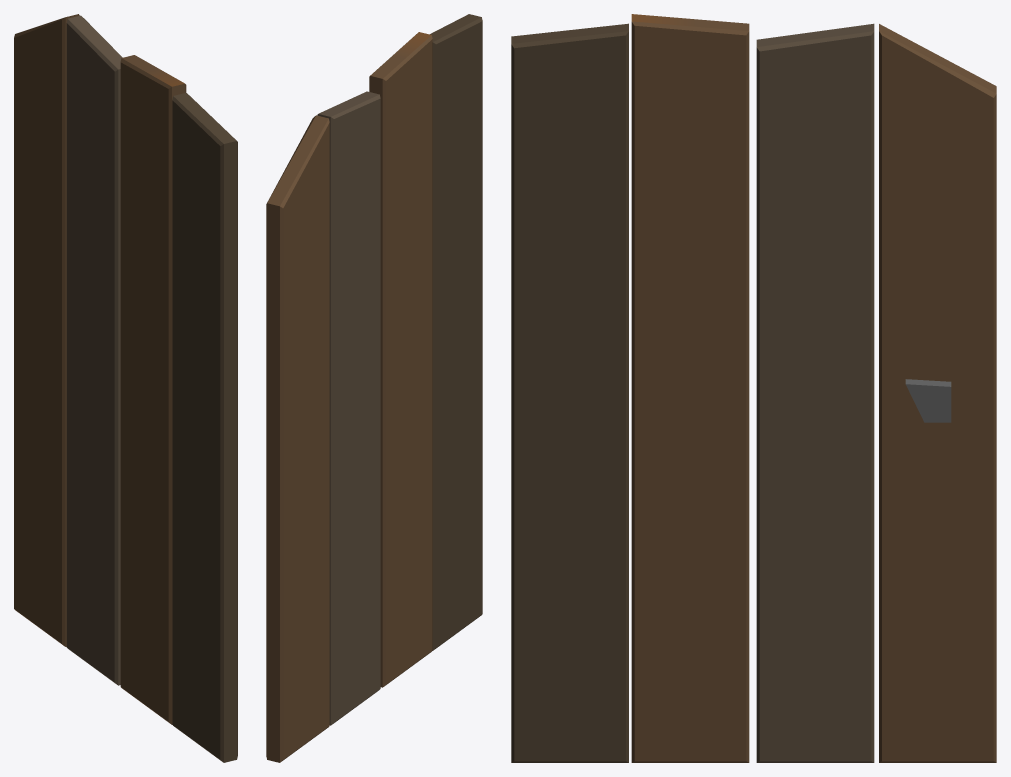
File: Door.fbx
3 renders of one model, left to right at view 1: azimuth 30°, elevation 25°; view 2: azimuth 150°, elevation 25°; view 3: azimuth 270°, elevation 25°, orthographic. The views are drawn at different scales.
Visible parts, largest first — view 1: polySurface63; view 2: polySurface63; view 3: polySurface63.
Part boxes in pixels (x1=…): polySurface63: x1=14, y1=14, x2=237, y2=762; polySurface63: x1=266, y1=14, x2=482, y2=762; polySurface63: x1=511, y1=14, x2=996, y2=762.
Size of the model in its own units: 7.56 by 174 by 103.
